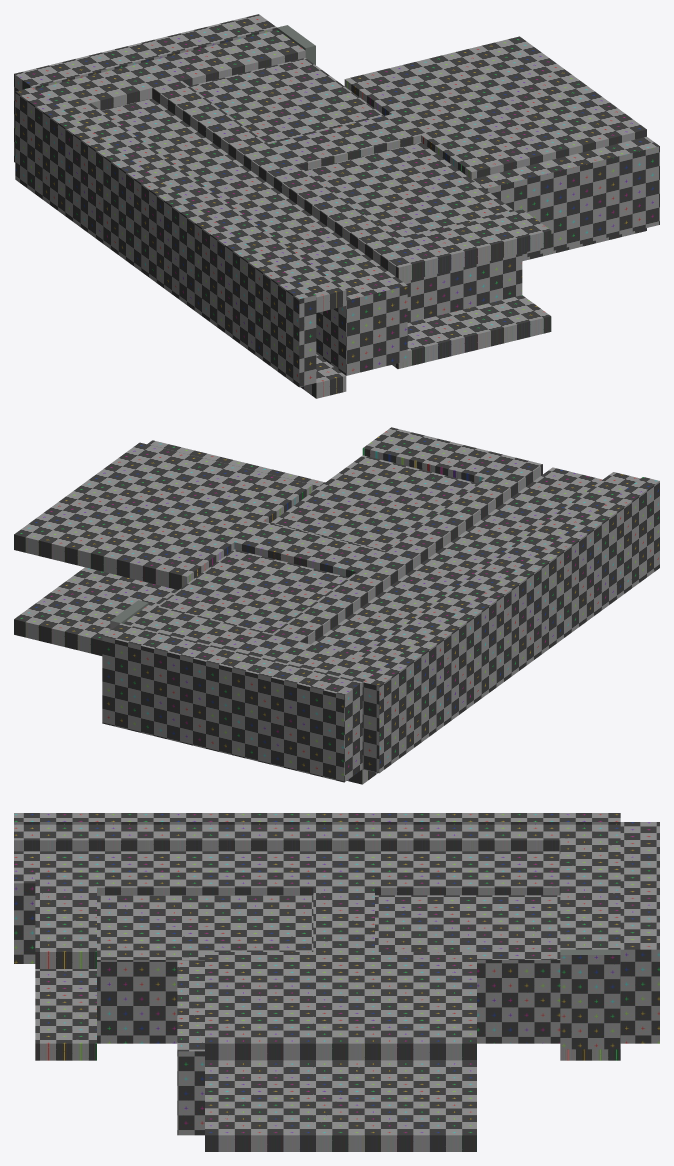
File: DungeonFBX.fbx
The picture shows the model from 3 angles, top to bottom: view 1: azimuth 30°, elevation 25°; view 2: azimuth 150°, elevation 25°; view 3: azimuth 270°, elevation 25°; orthographic projection. The views are drawn at different scales.
Visible parts, largest first — view 1: Floor, Cube.004, Cube.002, Cube.001, Cube.003; view 2: Floor, Cube.004, Cube.002, Cube.003, Cube.001; view 3: Cube.004, Floor, Cube.003, Cube.002, Floor.001, Cube.001.
Part boxes in pixels (left/top/right/bottom): Floor: left=14, top=14, right=522, bottom=387; Cube.004: left=35, top=30, right=646, bottom=312; Cube.002: left=101, top=98, right=407, bottom=375; Cube.001: left=472, top=136, right=659, bottom=258; Cube.003: left=300, top=228, right=646, bottom=398; Floor: left=102, top=455, right=659, bottom=782; Cube.004: left=14, top=427, right=640, bottom=681; Cube.002: left=311, top=467, right=602, bottom=656; Cube.003: left=14, top=567, right=377, bottom=784; Cube.001: left=147, top=440, right=325, bottom=491; Cube.004: left=14, top=824, right=620, bottom=1060; Floor: left=14, top=813, right=659, bottom=1043; Cube.003: left=35, top=969, right=620, bottom=1151; Cube.002: left=14, top=851, right=560, bottom=963; Floor.001: left=560, top=949, right=620, bottom=1049; Cube.001: left=177, top=960, right=204, bottom=1135.
Bounding box in the file's own units: 17.46 × 3.96 × 20.92.
